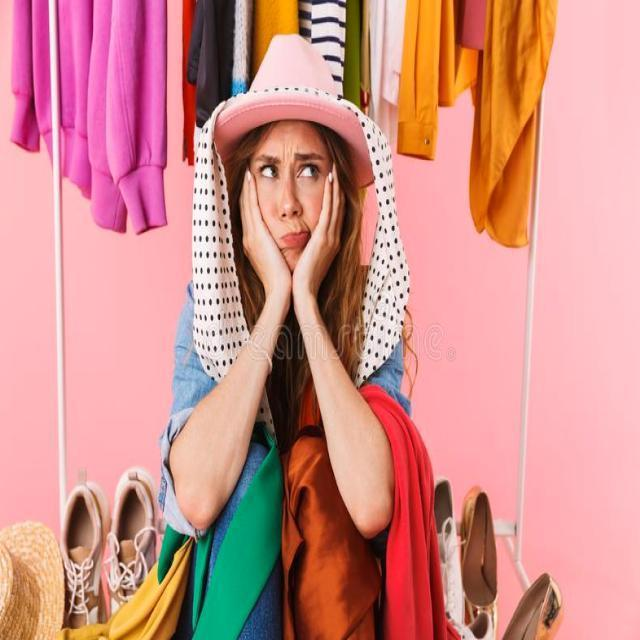clothes: (71, 34, 403, 125)
